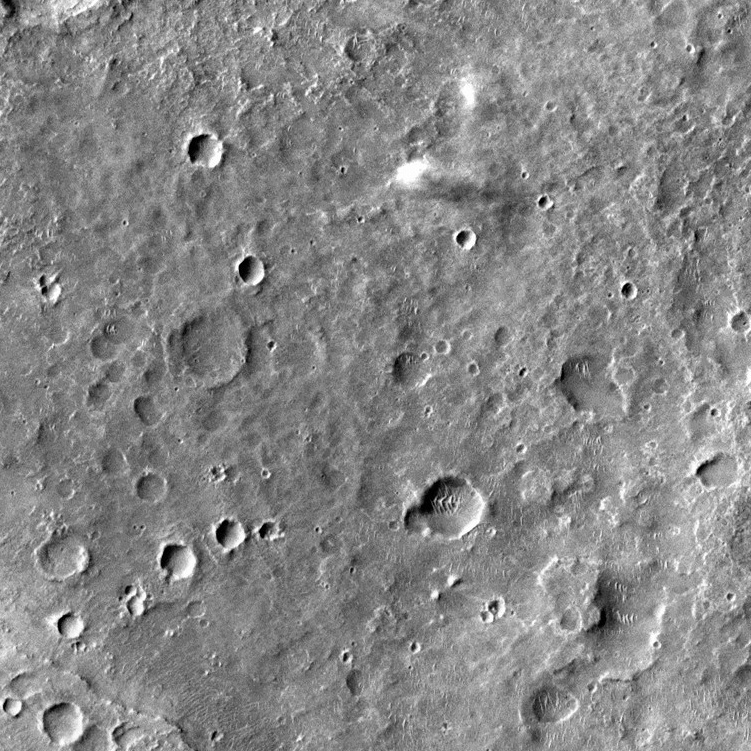dust_devil: (390, 153, 498, 207)
